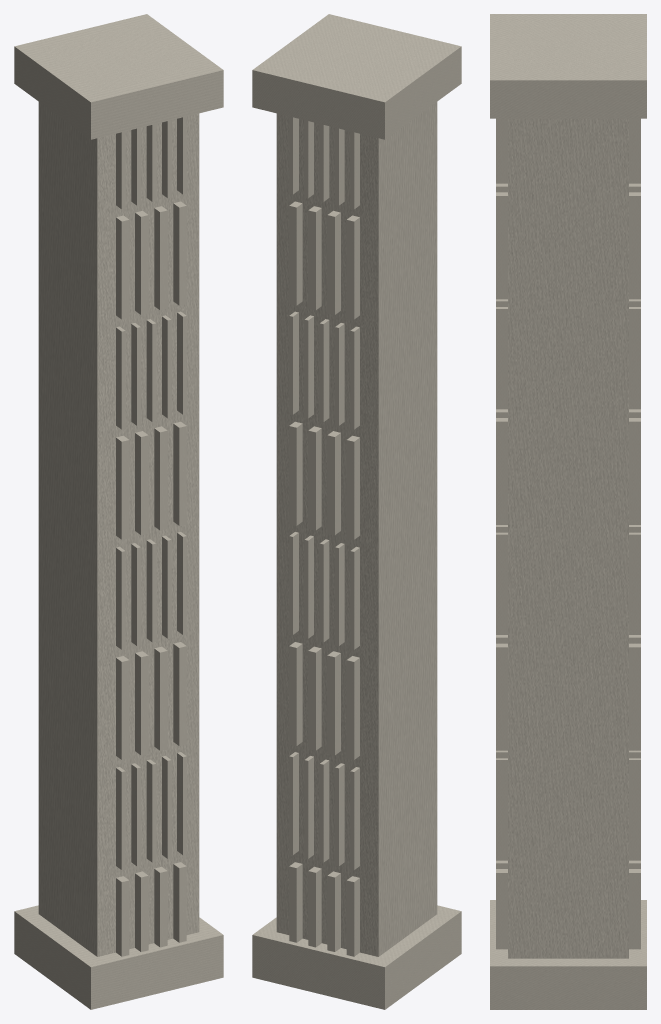
Rendered from pirate-port-and-tall-ships-stone-corner-pier-192ddd1d__30143.glb.
3 views of the same model, side by side, from view 1: azimuth 30°, elevation 25°; view 2: azimuth 150°, elevation 25°; view 3: azimuth 270°, elevation 25° (orthographic). The views are drawn at different scales.
Visible parts, largest first — view 1: stone-corner-pier; view 2: stone-corner-pier; view 3: stone-corner-pier.
Boxes of the visible parts, bbox=[...] form: stone-corner-pier: bbox=[14, 14, 223, 1009]; stone-corner-pier: bbox=[252, 14, 461, 1009]; stone-corner-pier: bbox=[490, 14, 646, 1009].
Bounding box in the file's own units: 0.5201 × 3.4 × 0.5201.
1 material, 1 textured.
